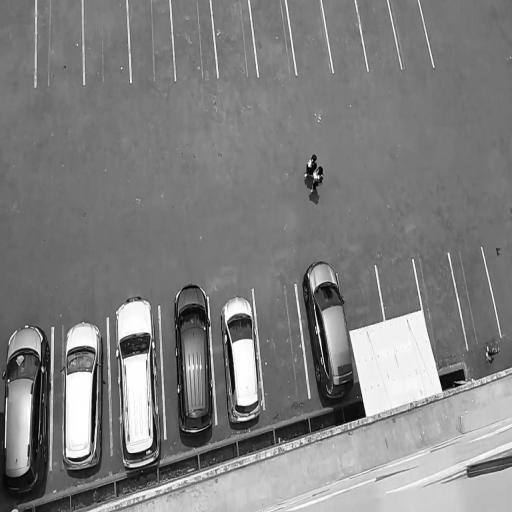Car: (113, 291, 166, 482), (1, 322, 52, 505), (300, 257, 359, 409), (169, 278, 216, 445), (60, 314, 103, 479), (219, 291, 264, 430)
Space Available: (253, 285, 309, 409), (414, 254, 467, 356), (450, 249, 500, 349), (37, 0, 83, 87), (84, 0, 130, 85), (128, 0, 175, 82), (171, 0, 218, 80), (322, 0, 369, 74), (287, 0, 333, 75), (357, 0, 403, 74), (338, 265, 385, 333), (389, 0, 433, 69), (377, 260, 421, 321)
